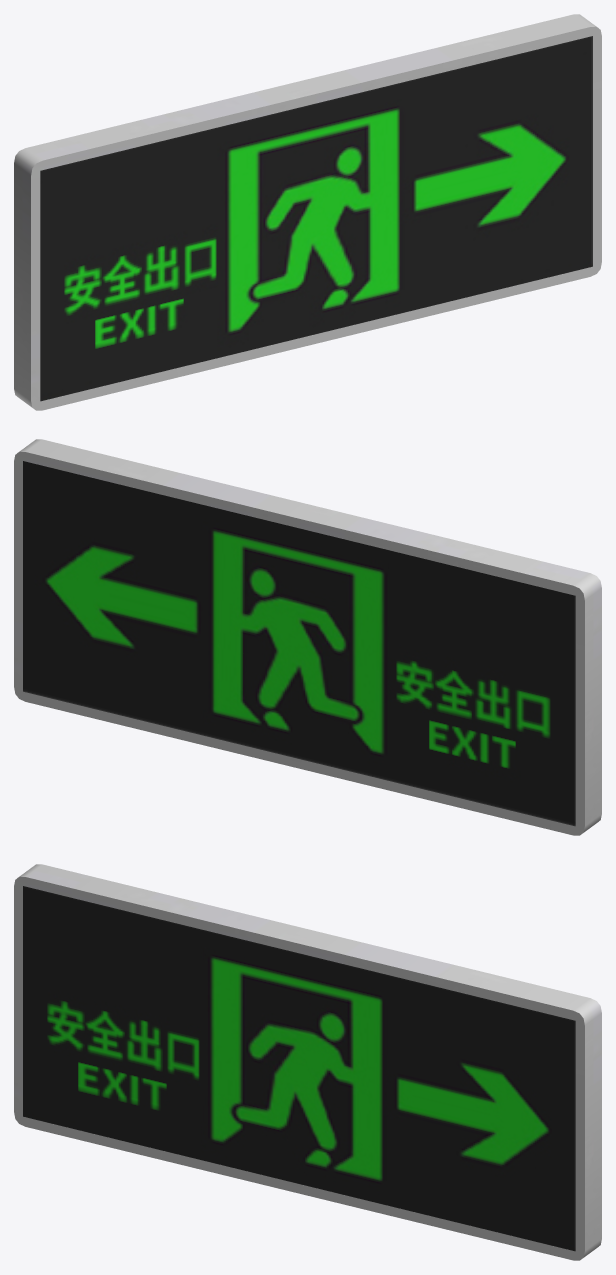
File: SM_安全出口001.fbx
3 views of the same model, one above another, from view 1: azimuth 30°, elevation 25°; view 2: azimuth 150°, elevation 25°; view 3: azimuth 330°, elevation 25° (orthographic).
Visible parts, largest first — view 1: SM_安全出口001; view 2: SM_安全出口001; view 3: SM_安全出口001.
Boxes of the visible parts, x1,y1,x2,y2 form: SM_安全出口001: (14,14,601,410); SM_安全出口001: (14,439,601,835); SM_安全出口001: (14,864,601,1260).
Bounding box in the file's own units: 39.3 × 16.44 × 2.04.
